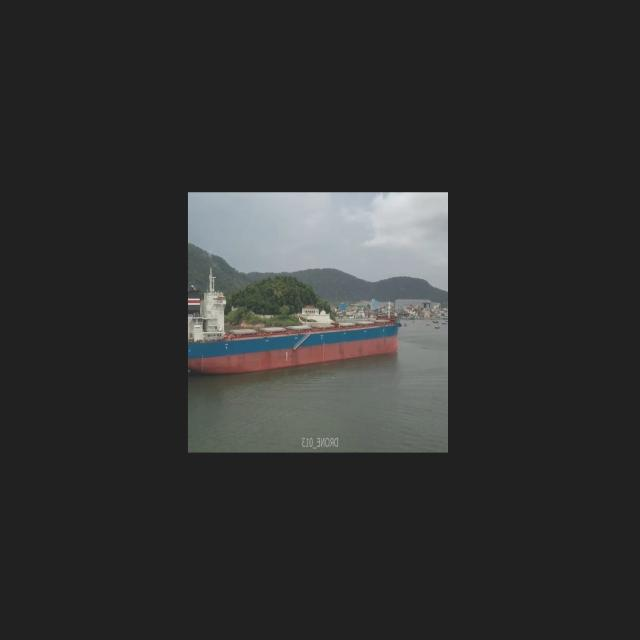ship: (187, 278, 402, 373)
